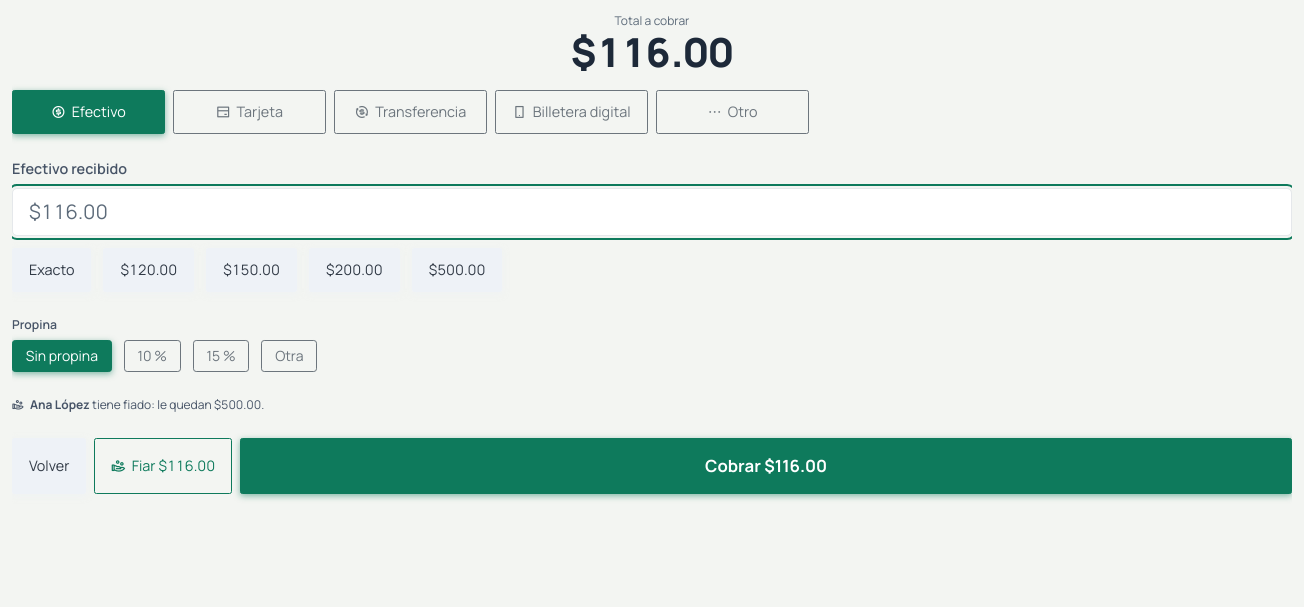
Test: ChargePanel on credit (fiado) › hides «Fiar» once the cash covers the whole sale
Type "200" into the field labelled "Efectivo recibido" at (652, 212), box [12,188,1292,236]
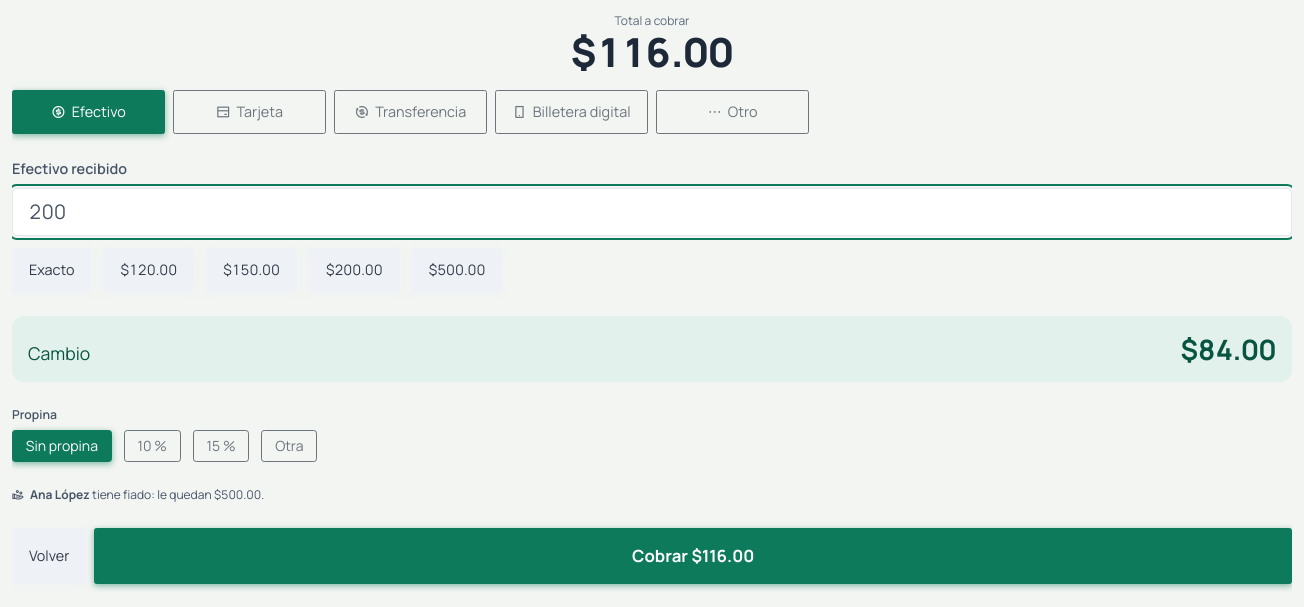
Expected: the button "Cobrar $116.00" is enabled, [94,528,1292,584]
Expected: the button "Fiar" is gone
